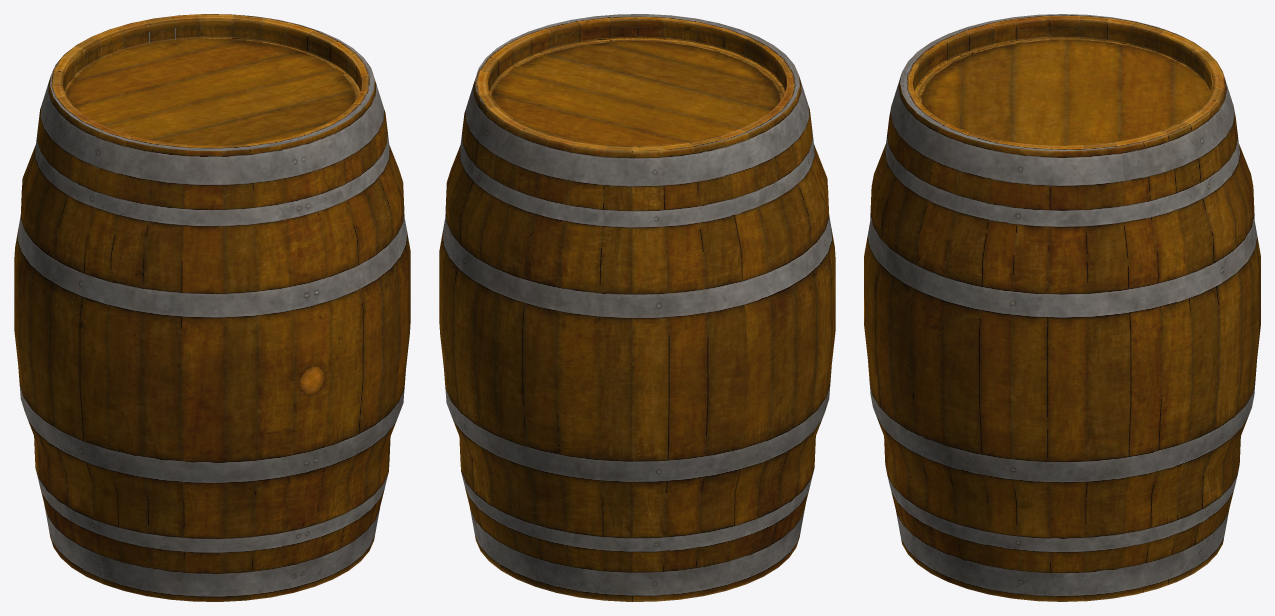
Rendered from mm6_deco_barrel.glb.
3 renders of one model, left to right at view 1: azimuth 30°, elevation 25°; view 2: azimuth 150°, elevation 25°; view 3: azimuth 270°, elevation 25°, orthographic.
Visible parts, largest first — view 1: Barrel; view 2: Barrel; view 3: Barrel.
Boxes of the visible parts, box(x1,y1,x2,y2) form: Barrel: box(14, 14, 410, 601); Barrel: box(439, 14, 835, 601); Barrel: box(864, 14, 1260, 601).
Size of the model in its own units: 0.6953 by 0.8713 by 0.6953.
1 material, 1 textured.
